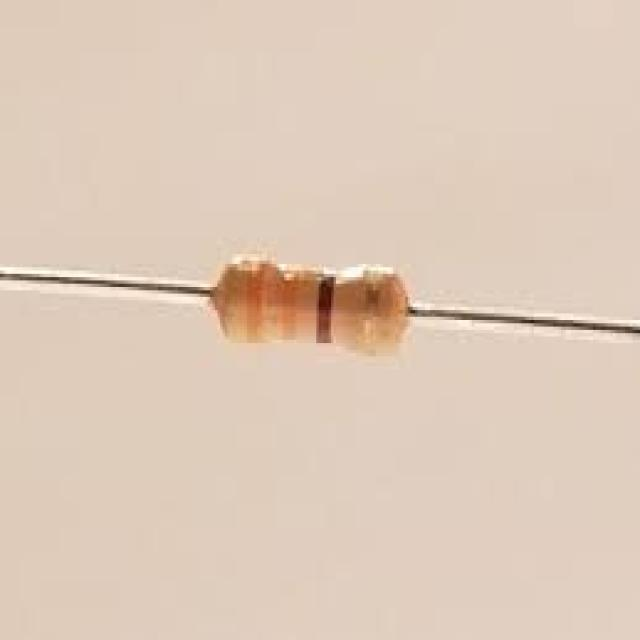Capacitor Electrolitico: (195, 241, 438, 389)
